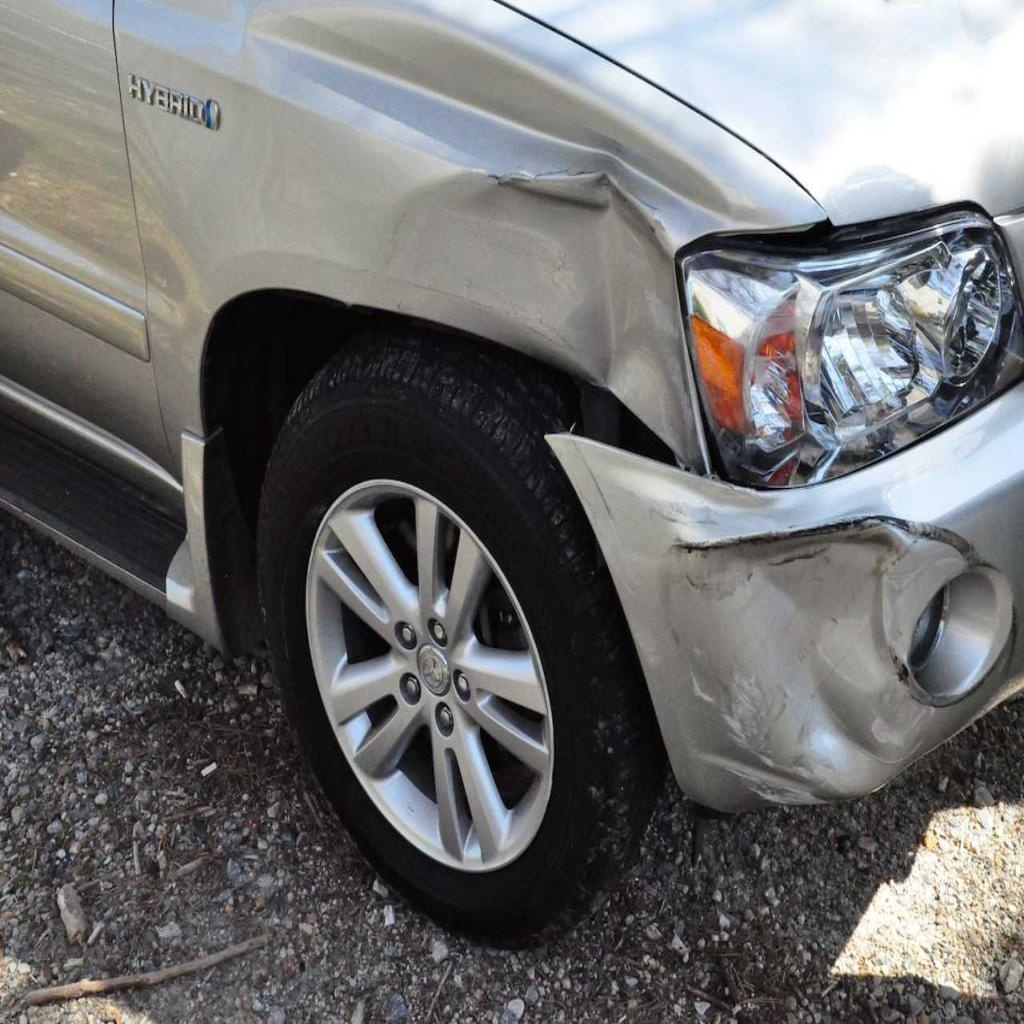Broken-glass: (691, 201, 1013, 491)
Dent: (276, 12, 694, 450), (647, 517, 981, 807)
